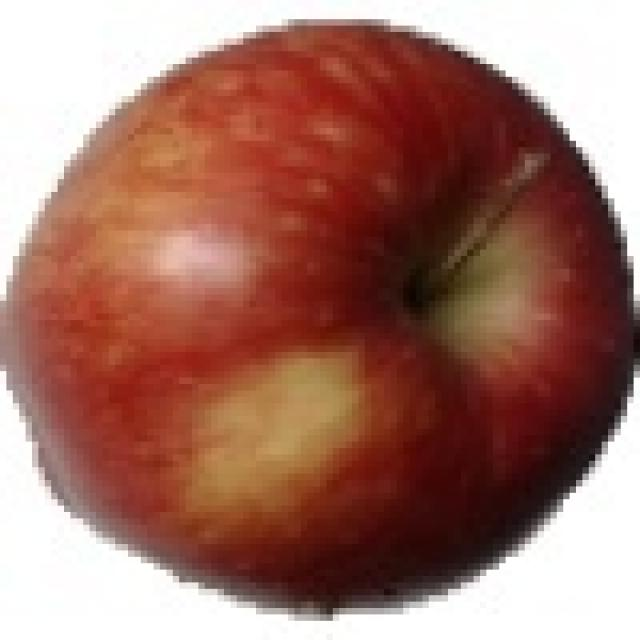apple: (7, 16, 637, 614)
